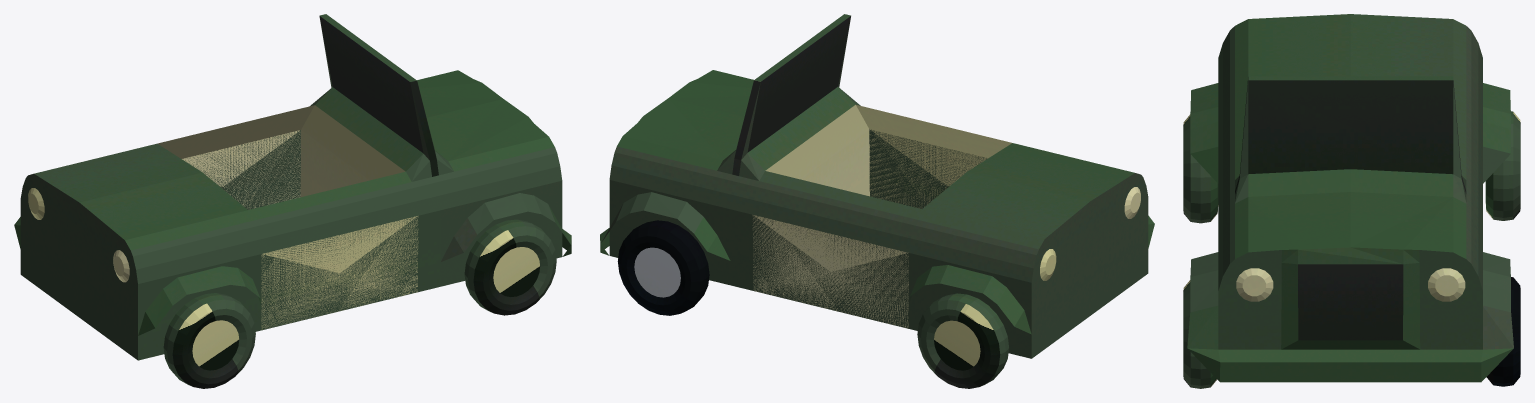
The model's file is jeep_1.obj.
The picture shows the model from 3 angles, left to right: view 1: azimuth 30°, elevation 25°; view 2: azimuth 150°, elevation 25°; view 3: azimuth 270°, elevation 25°; orthographic projection. The views are drawn at different scales.
Parts seen in each view (by area): view 1: Cube, Torus.003, Torus.002; view 2: Cube, Torus.001, Torus; view 3: Cube, Torus.001, Torus.002, Torus, Torus.003.
Boxes of the visible parts, box(x1,y1,x2,y2) form: Cube: box(14, 14, 571, 360); Torus.003: box(464, 219, 556, 315); Torus.002: box(163, 293, 255, 388); Cube: box(600, 14, 1154, 358); Torus.001: box(917, 293, 1008, 388); Torus: box(617, 220, 709, 315); Cube: box(1187, 14, 1513, 382); Torus.001: box(1485, 111, 1520, 220); Torus.002: box(1183, 114, 1218, 223); Torus: box(1486, 277, 1520, 386); Torus.003: box(1183, 280, 1216, 388).
Bounding box in the file's own units: 7.03 × 3.59 × 4.17.
